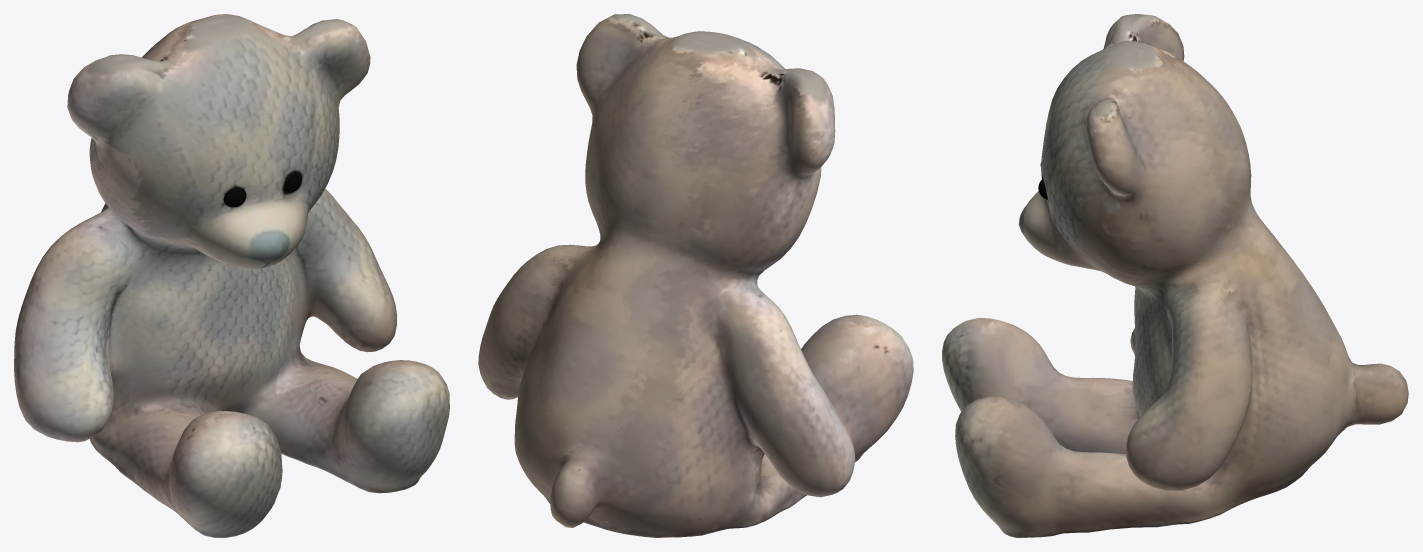
File: sf-teddy-gray.glb
The picture shows the model from 3 angles, left to right: view 1: azimuth 30°, elevation 25°; view 2: azimuth 150°, elevation 25°; view 3: azimuth 270°, elevation 25°; orthographic projection. The views are drawn at different scales.
Parts seen in each view (by area): view 1: Object_6, Object_9; view 2: Object_6; view 3: Object_6.
Boxes of the visible parts, bbox=[...] form: Object_6: bbox=[14, 14, 449, 537]; Object_9: bbox=[223, 173, 301, 207]; Object_6: bbox=[478, 14, 913, 537]; Object_6: bbox=[942, 14, 1408, 537].
Size of the model in its own units: 0.34 by 0.4 by 0.4013.
2 materials, 1 textured.
